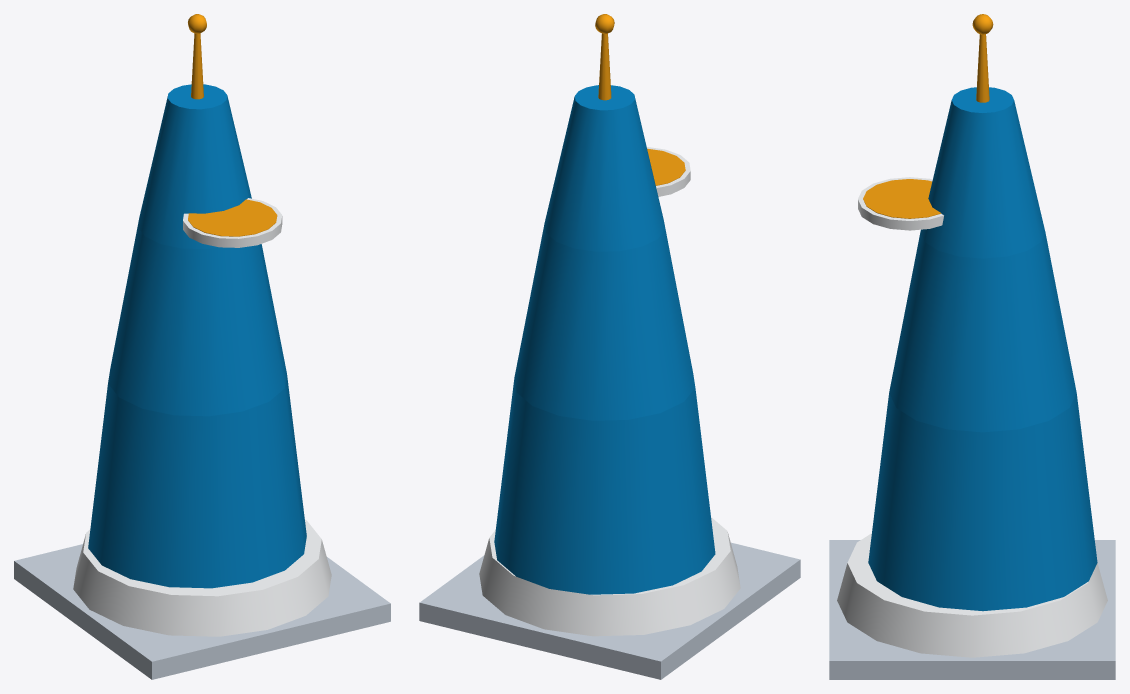
The model's file is bld_resort_c3.glb.
The picture shows the model from 3 angles, left to right: view 1: azimuth 30°, elevation 25°; view 2: azimuth 150°, elevation 25°; view 3: azimuth 270°, elevation 25°; orthographic projection. The views are drawn at different scales.
Parts seen in each view (by area): view 1: Bld_Resort_C3_SailCondotel; view 2: Bld_Resort_C3_SailCondotel; view 3: Bld_Resort_C3_SailCondotel.
Part boxes in pixels (box(x1,y1,x2,y2)): Bld_Resort_C3_SailCondotel: box(14, 14, 390, 679); Bld_Resort_C3_SailCondotel: box(419, 14, 800, 679); Bld_Resort_C3_SailCondotel: box(829, 14, 1115, 679).
Size of the model in its own units: 0.55 by 1.28 by 0.55.
